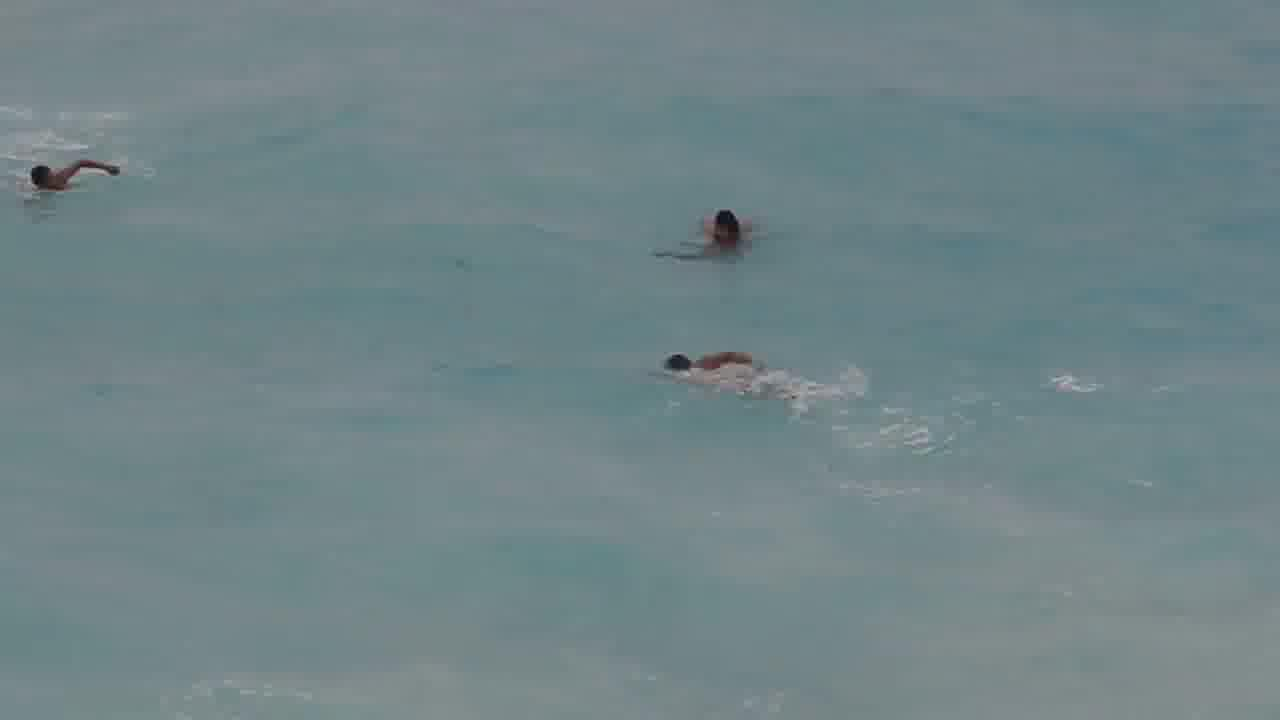swimmer: (647, 334, 766, 386), (689, 193, 765, 253), (19, 147, 122, 190)
